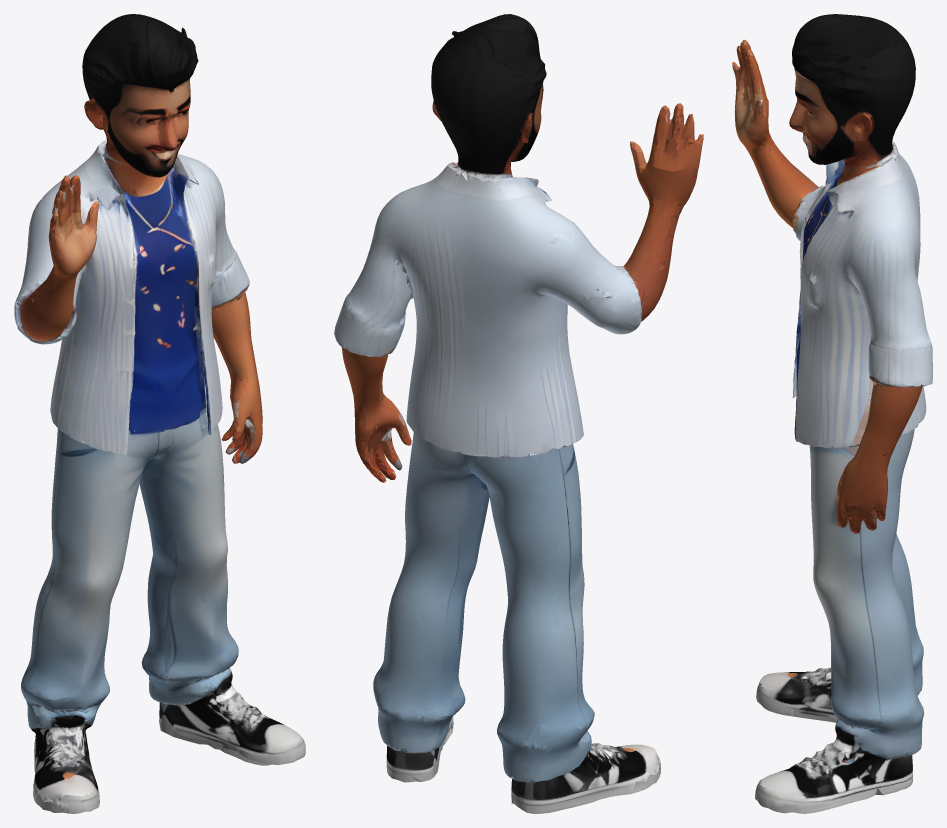
File: pose_home.glb
3 views of the same model, side by side, from view 1: azimuth 30°, elevation 25°; view 2: azimuth 150°, elevation 25°; view 3: azimuth 270°, elevation 25° (orthographic). The views are drawn at different scales.
Parts seen in each view (by area): view 1: pose_home; view 2: pose_home; view 3: pose_home.
Boxes of the visible parts, box(x1,y1,x2,y2) form: pose_home: box(14, 14, 305, 813); pose_home: box(334, 14, 703, 813); pose_home: box(732, 14, 932, 813).
Size of the model in its own units: 0.7454 by 1.9 by 0.4708.
1 material, 1 textured.
